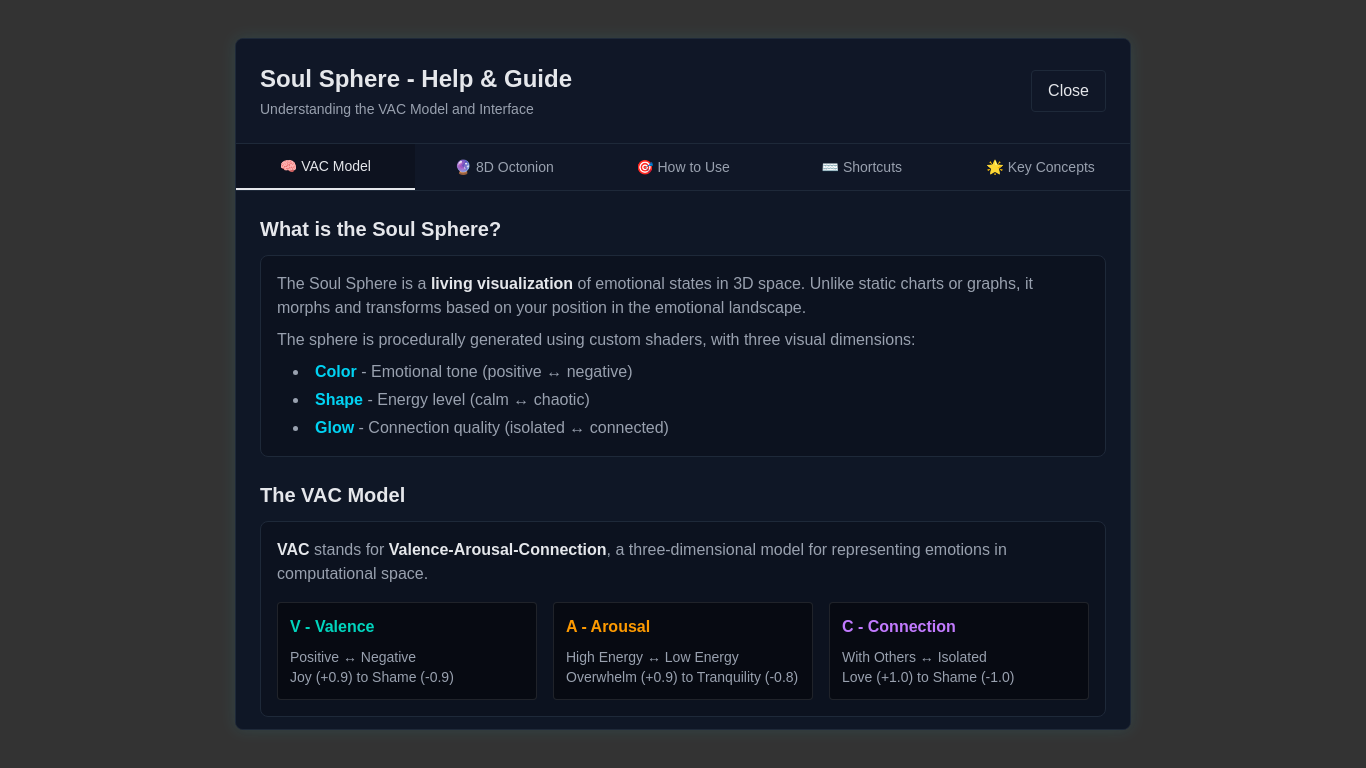
Scenario: HelpModal › renders specific content in Concepts tab
Click the button "🌟 Key Concepts": x=1041, y=167 [951,144,1130,190]
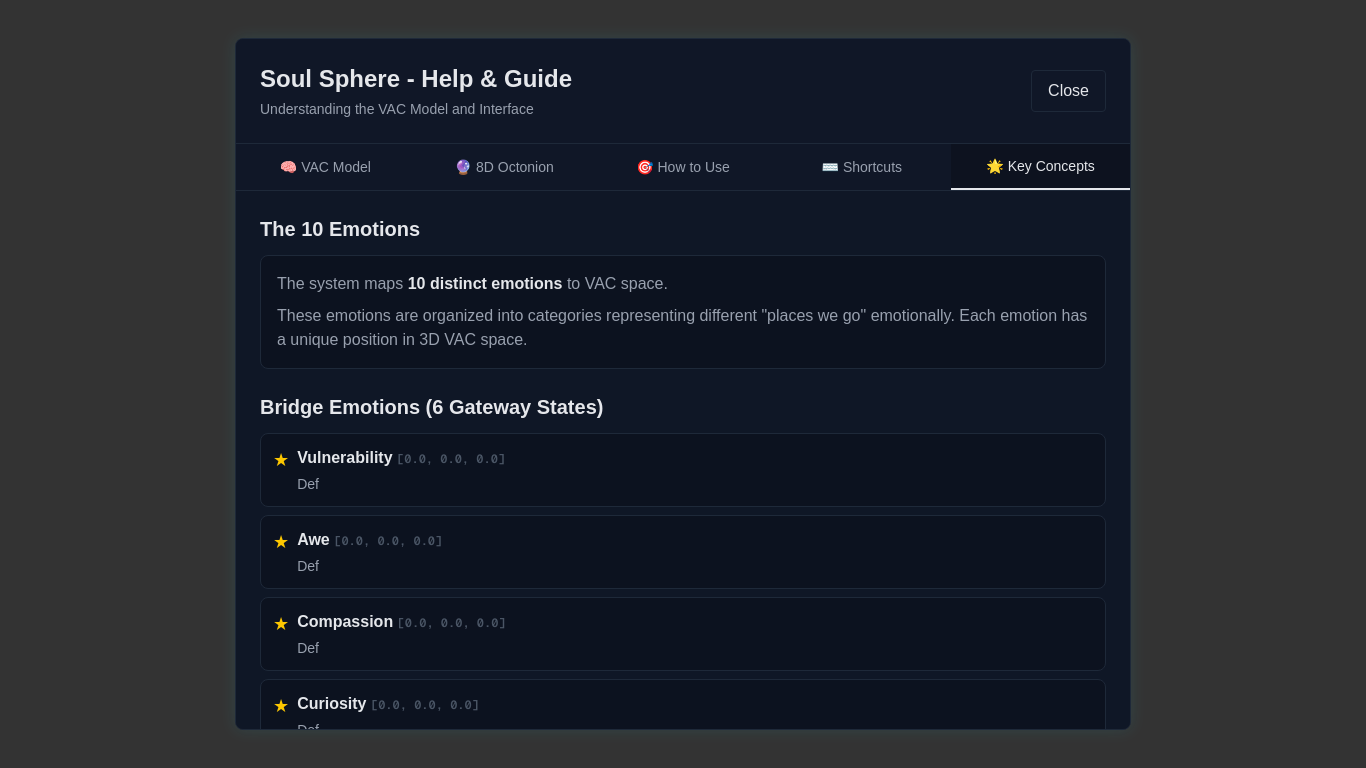
Now the heading "Bridge Emotions (6 Gateway States)" is shown, box [260,396,603,418]
Now the heading "Vulnerability [0.0, 0.0, 0.0]" is shown, box [297,449,505,467]
Now the heading "Awe [0.0, 0.0, 0.0]" is shown, box [297,531,442,549]
